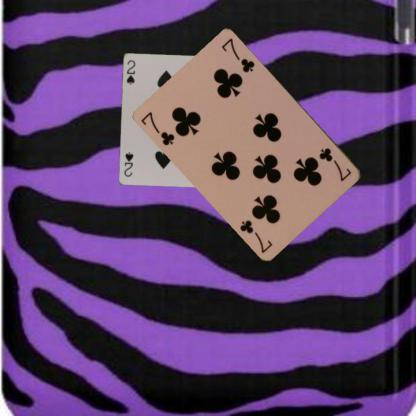2s: (124, 57, 136, 86)
7c: (139, 110, 176, 148), (317, 145, 353, 183)
